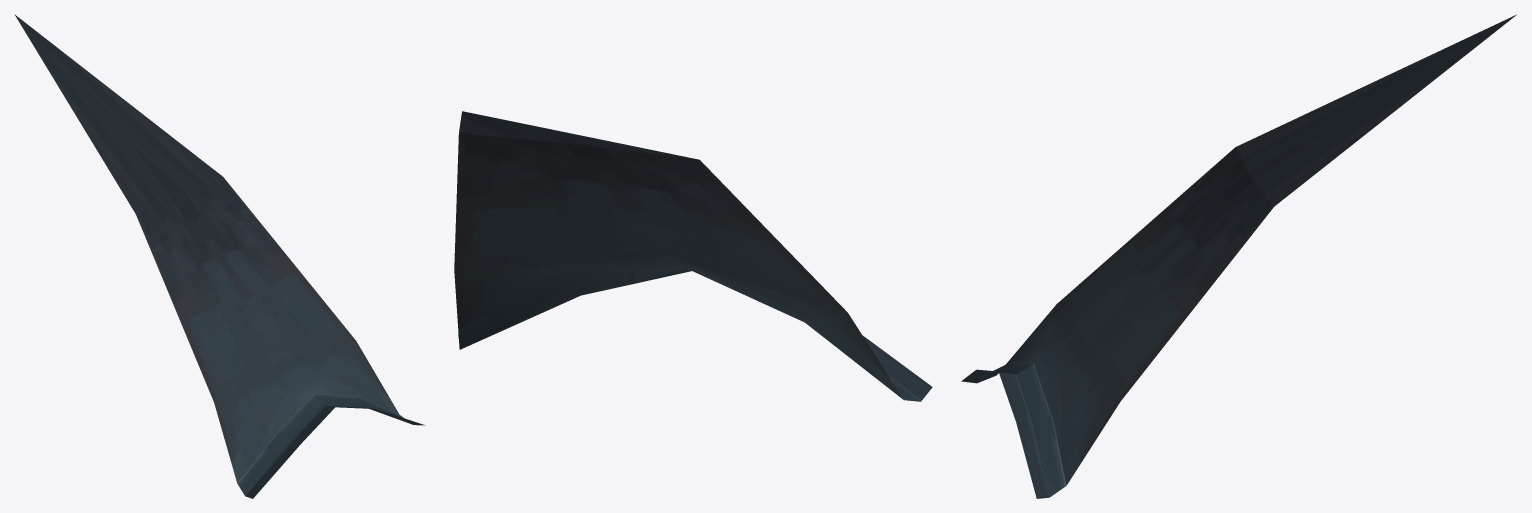
Rendered from A_CR_GEN_WallColumn_04.fbx.
3 renders of one model, left to right at view 1: azimuth 30°, elevation 25°; view 2: azimuth 150°, elevation 25°; view 3: azimuth 270°, elevation 25°, orthographic. The views are drawn at different scales.
Parts seen in each view (by area): view 1: A_CR_GEN_WallColumn_04; view 2: A_CR_GEN_WallColumn_04; view 3: A_CR_GEN_WallColumn_04.
Boxes of the visible parts, left/top/right/bottom form: A_CR_GEN_WallColumn_04: left=14, top=14, right=424, bottom=498; A_CR_GEN_WallColumn_04: left=454, top=111, right=932, bottom=401; A_CR_GEN_WallColumn_04: left=961, top=14, right=1516, bottom=498.
Bounding box in the file's own units: 560 × 813 × 1112.
1 material, 1 textured.
